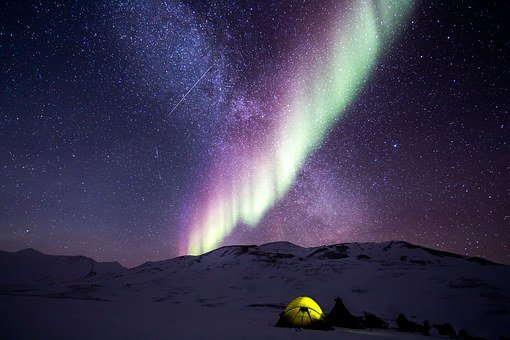mountain: (17, 237, 486, 340)
sky: (7, 7, 510, 252)
